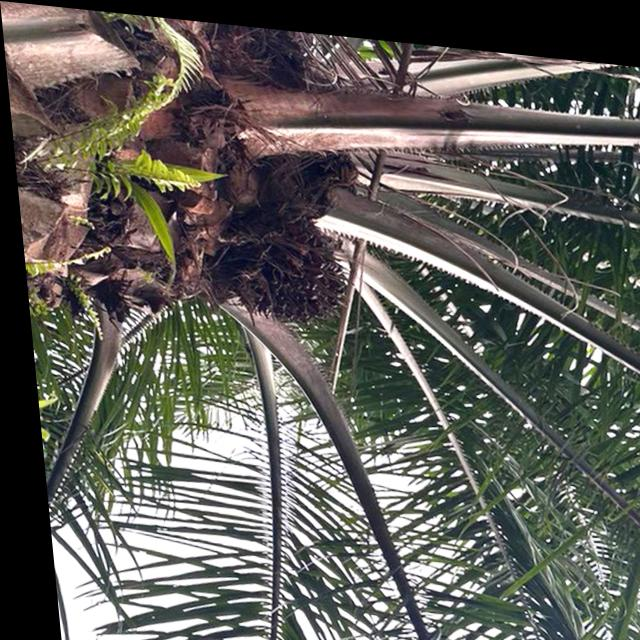ripe: (215, 193, 362, 335)
